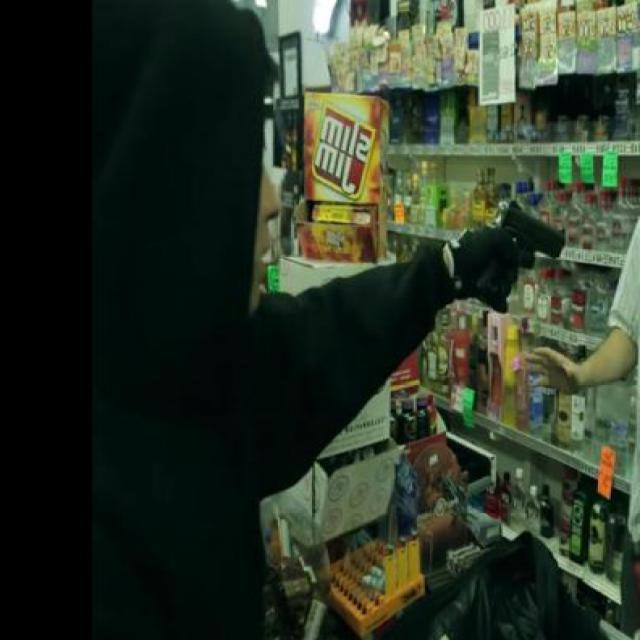weapon: (474, 199, 567, 313)
